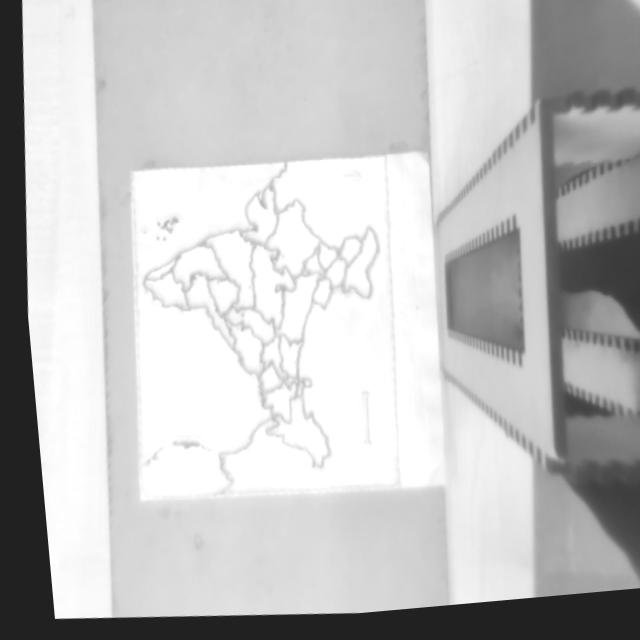map: (128, 155, 399, 498)
